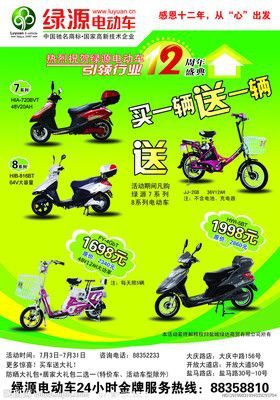non-vehicle: (152, 238, 257, 320), (177, 112, 269, 192), (28, 75, 123, 147), (16, 261, 110, 330), (28, 150, 117, 219)
